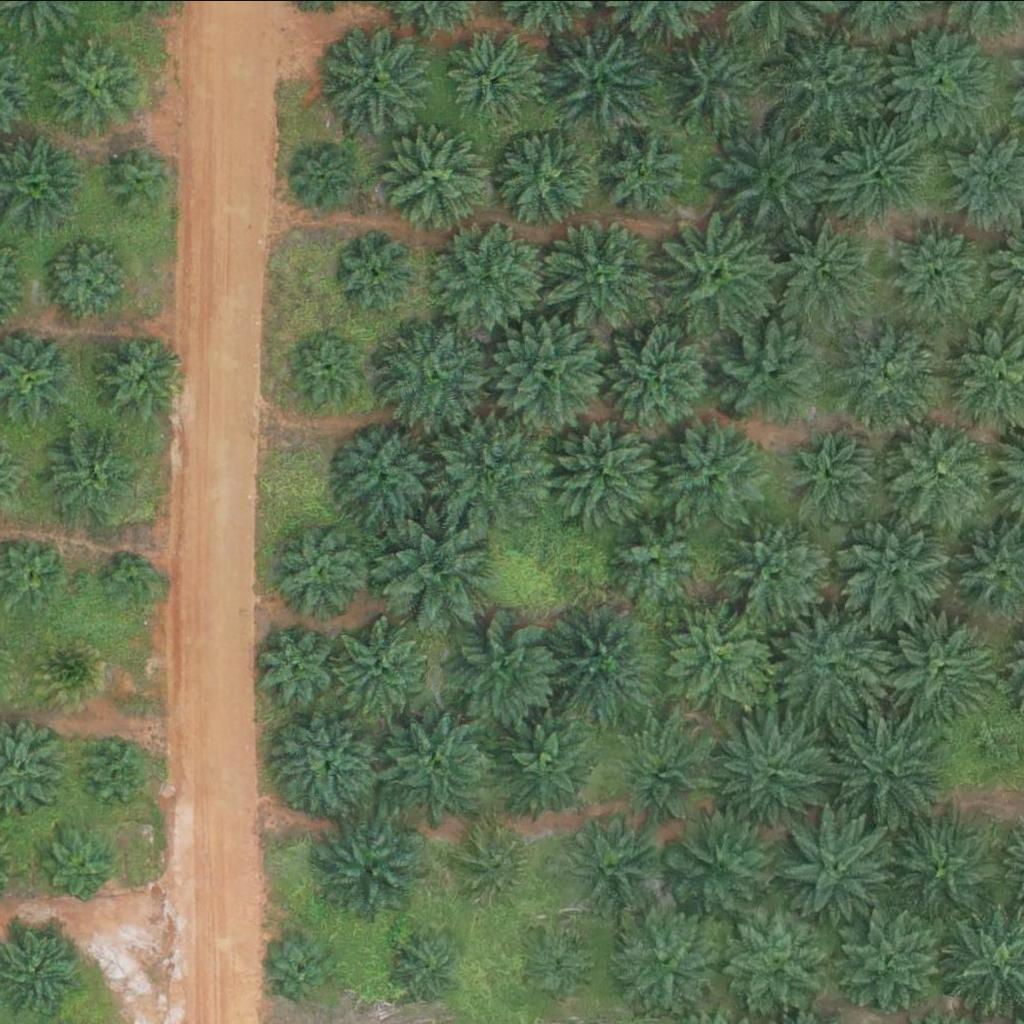Kelapa_Sawit: (310, 807, 436, 932), (776, 805, 902, 930), (371, 700, 497, 825), (441, 605, 567, 730), (374, 508, 500, 633), (433, 405, 559, 530), (598, 311, 724, 436), (540, 210, 666, 335), (655, 211, 781, 336), (711, 115, 837, 240), (531, 19, 657, 144), (650, 20, 776, 145), (766, 20, 892, 145), (877, 18, 1003, 143), (551, 411, 665, 524), (836, 319, 950, 432), (667, 809, 780, 922), (721, 713, 834, 826), (656, 413, 769, 526), (774, 420, 887, 533), (722, 319, 835, 432), (433, 219, 546, 332), (881, 611, 994, 724), (833, 717, 946, 830), (489, 317, 603, 429), (768, 212, 882, 324), (607, 904, 720, 1016), (722, 902, 835, 1014), (493, 704, 606, 816), (609, 717, 722, 829), (546, 605, 659, 717), (665, 600, 778, 712), (775, 607, 888, 719), (720, 519, 833, 631), (374, 322, 487, 434), (885, 415, 998, 527), (836, 515, 949, 627), (886, 813, 999, 925), (838, 904, 951, 1016), (45, 34, 146, 134), (274, 715, 375, 815), (383, 127, 484, 227), (498, 128, 599, 228), (324, 25, 425, 125), (445, 31, 546, 131), (89, 327, 189, 427), (39, 421, 139, 521), (331, 616, 431, 716), (337, 426, 437, 526), (594, 121, 694, 221), (825, 122, 925, 222), (892, 224, 992, 324), (45, 234, 133, 322), (612, 514, 700, 602), (565, 820, 653, 907), (252, 623, 340, 710), (278, 529, 366, 616), (295, 330, 371, 405), (104, 141, 180, 216), (30, 632, 106, 707), (79, 734, 155, 809), (458, 826, 533, 901), (339, 233, 414, 308), (38, 824, 113, 899), (264, 932, 339, 1007), (394, 929, 469, 1004), (524, 923, 599, 998), (293, 144, 356, 207), (102, 547, 165, 609)
